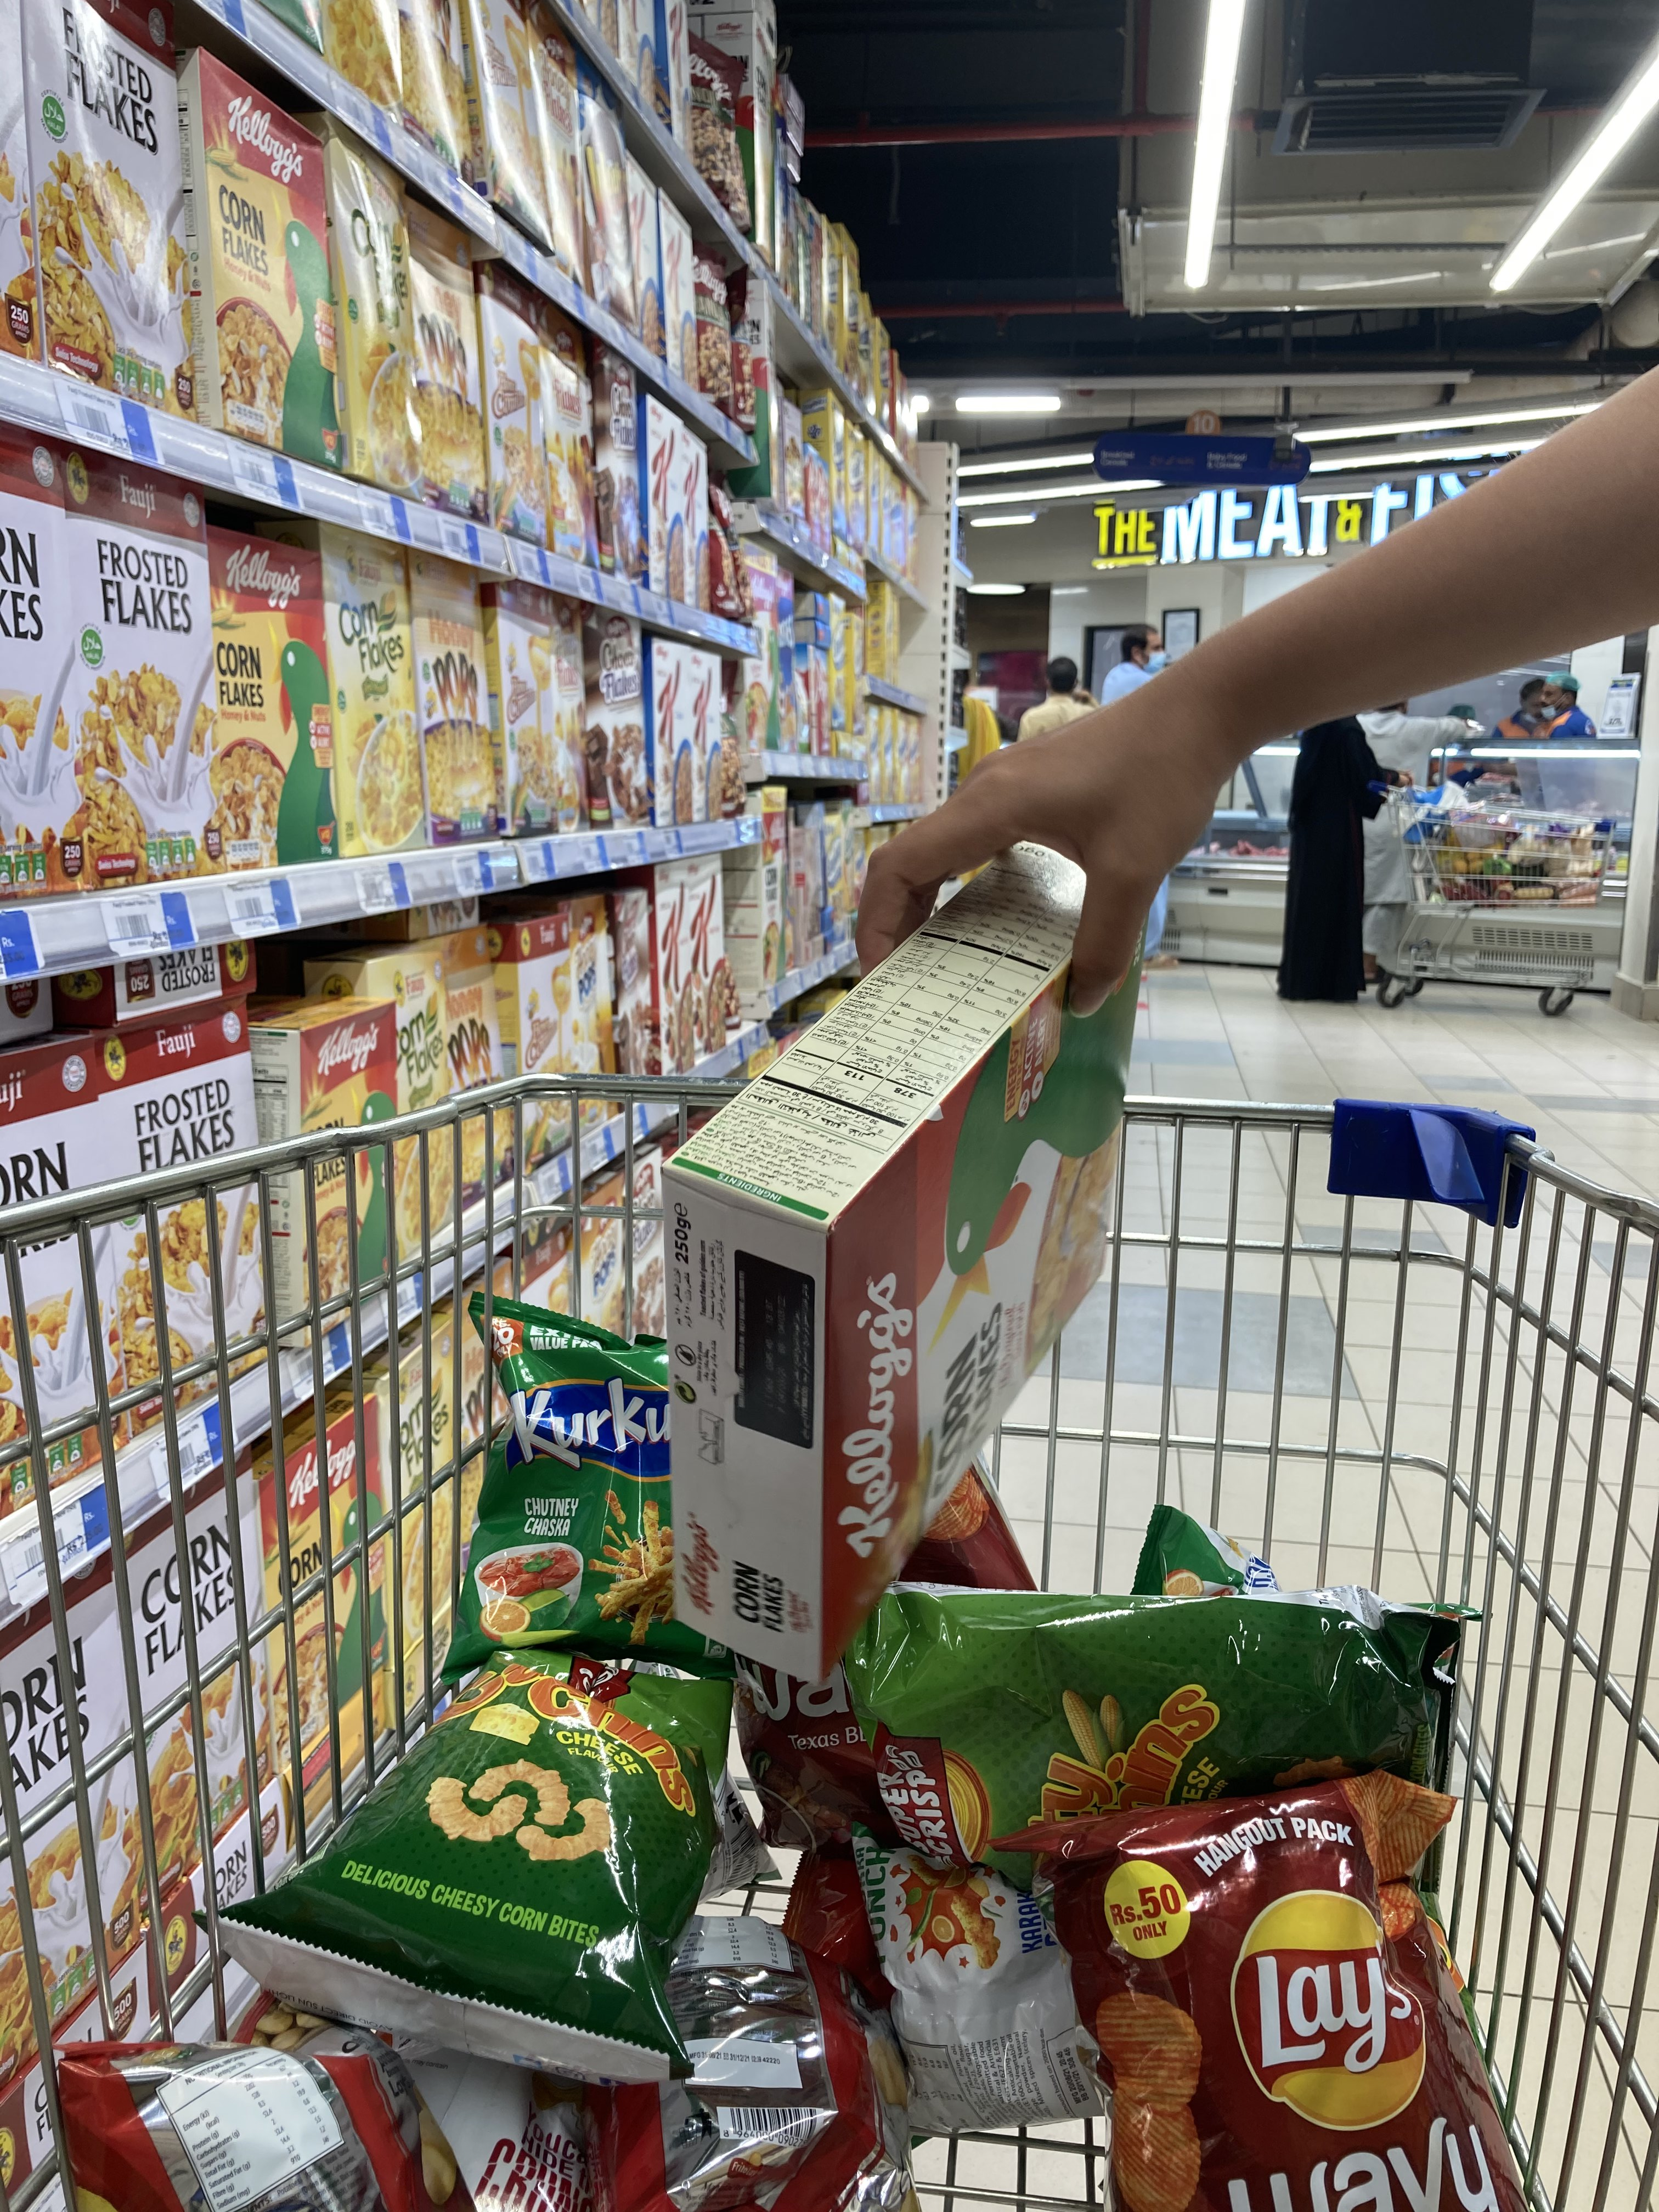Kellogg's Corn Flakes: (666, 873, 1136, 1683)
